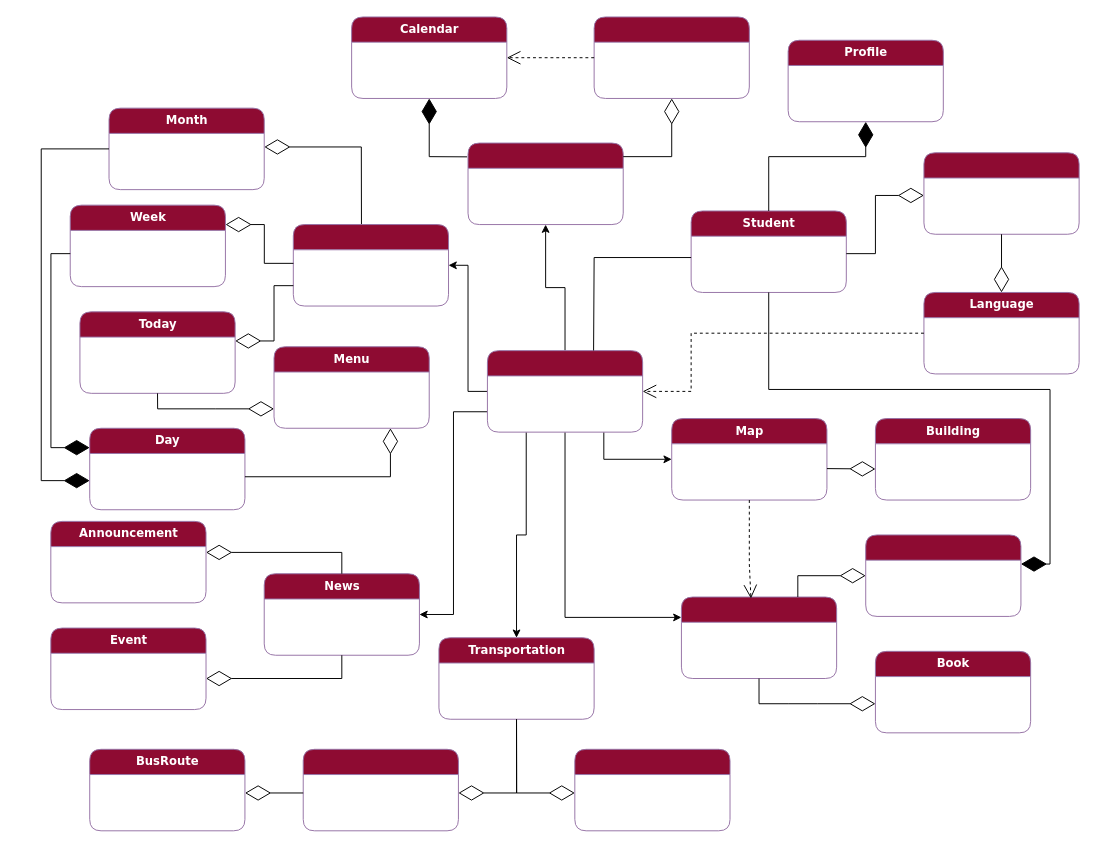
This 1096x848 diagram has some shape labels left out. Each missing label, with the centre of its shape:
"Bus" belongs at point (380, 789).
"Cafeteria" belongs at point (370, 265).
"Course" belongs at point (671, 57).
"CourseMenu" belongs at point (545, 183).
"Library" belongs at point (758, 637).
"MainMenu" belongs at point (564, 391).
"MemberCard" belongs at point (943, 575).
"Settings" belongs at point (1001, 193).
"Train" belongs at point (652, 789).
